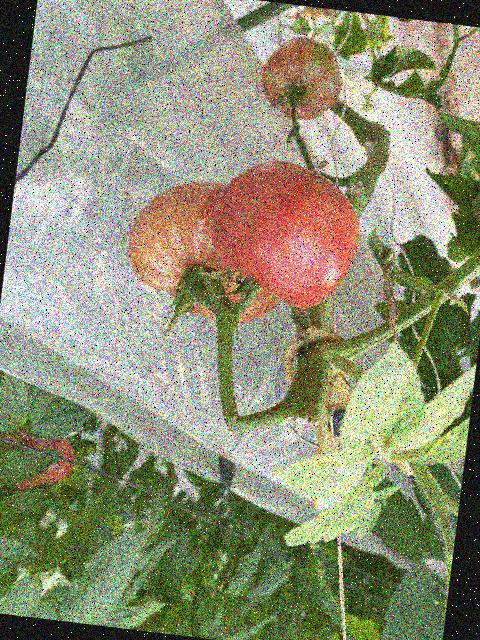b_fully_ripened: (200, 152, 368, 315)
b_half_ripened: (118, 172, 294, 330), (257, 32, 347, 125)
